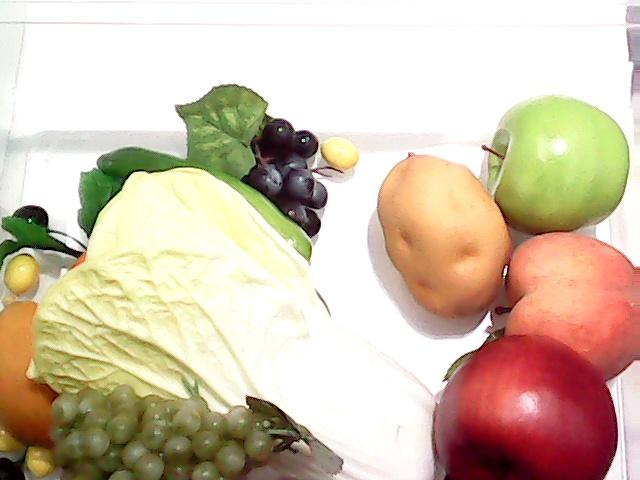apple: (433, 338, 617, 478), (465, 86, 635, 234)
carrot: (0, 202, 90, 274)
grape: (57, 384, 286, 480), (222, 118, 330, 238)
lemon: (0, 296, 72, 437)
napa cabbage: (25, 167, 474, 480)
peach: (494, 234, 640, 382)
pepper: (90, 141, 318, 265)
potato: (376, 147, 512, 317)
